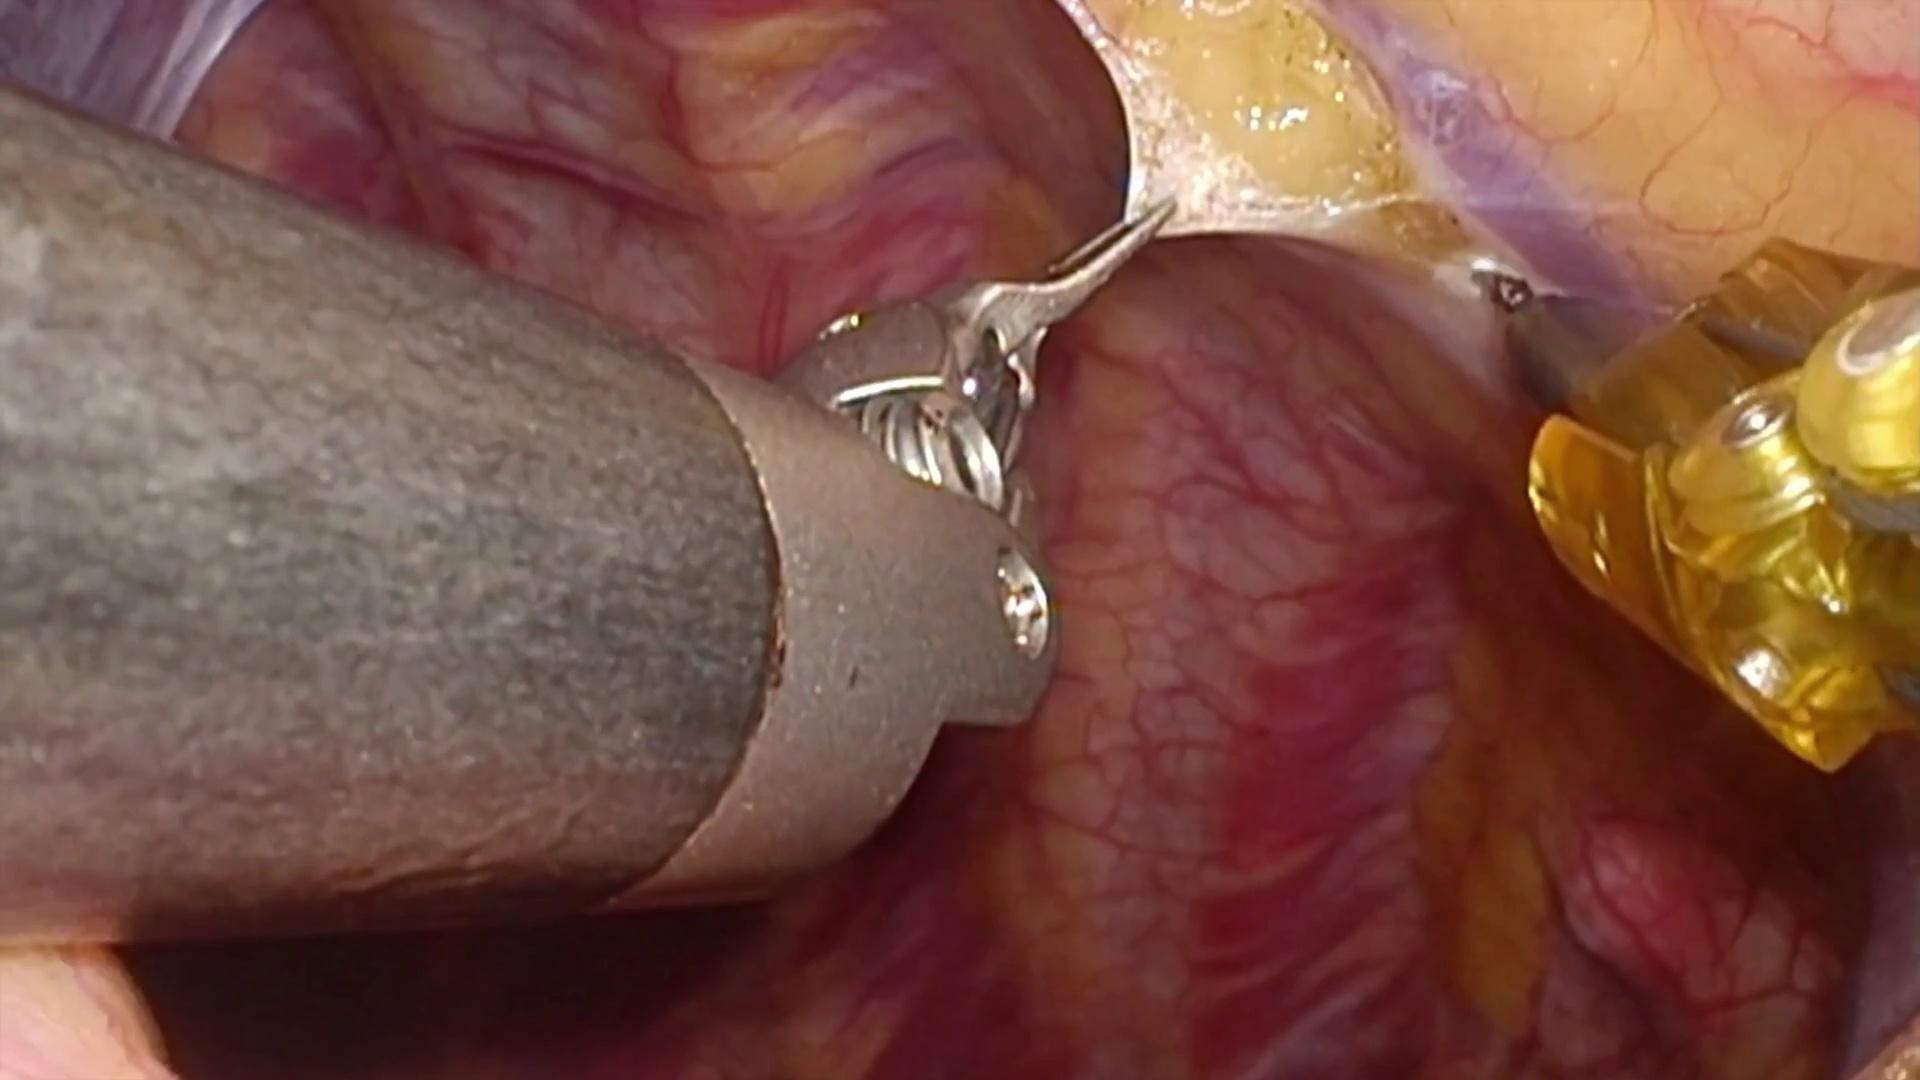Cautery_Spatula: (1448, 236, 1677, 411), (1448, 240, 1545, 328)
Debakey: (920, 191, 1185, 390)
